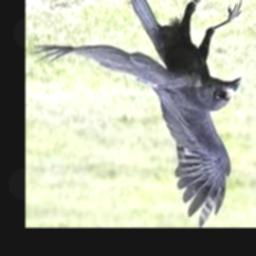Crow: (34, 0, 242, 228)
